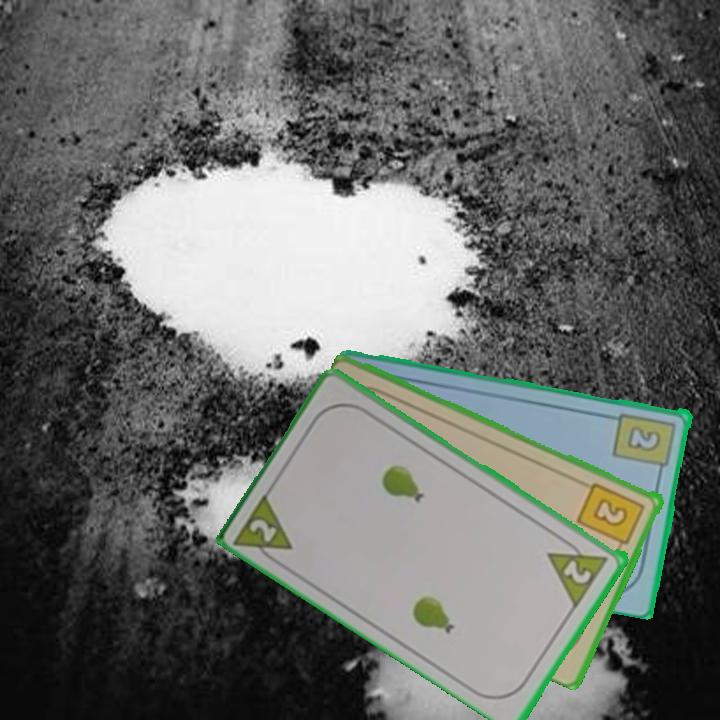2b: (574, 478, 648, 555), (611, 409, 679, 478)
2p: (231, 487, 297, 570), (544, 532, 612, 608)
